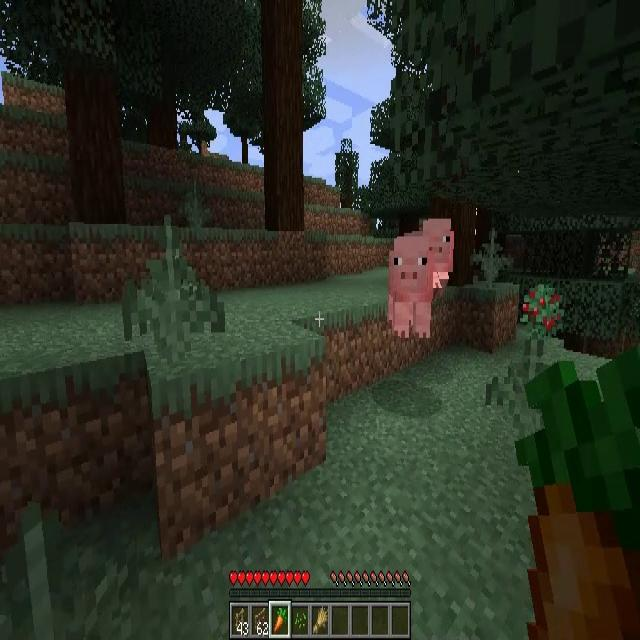pig: (389, 234, 432, 334), (424, 217, 454, 288)
